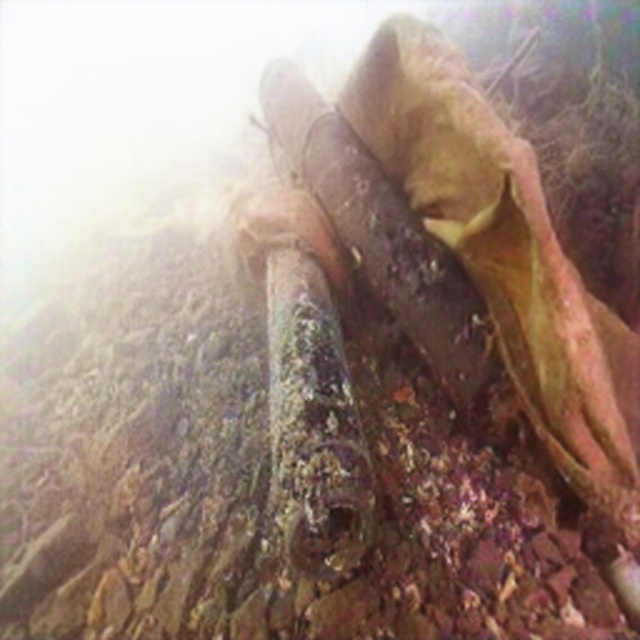mine: (258, 55, 495, 404), (265, 246, 376, 581)
